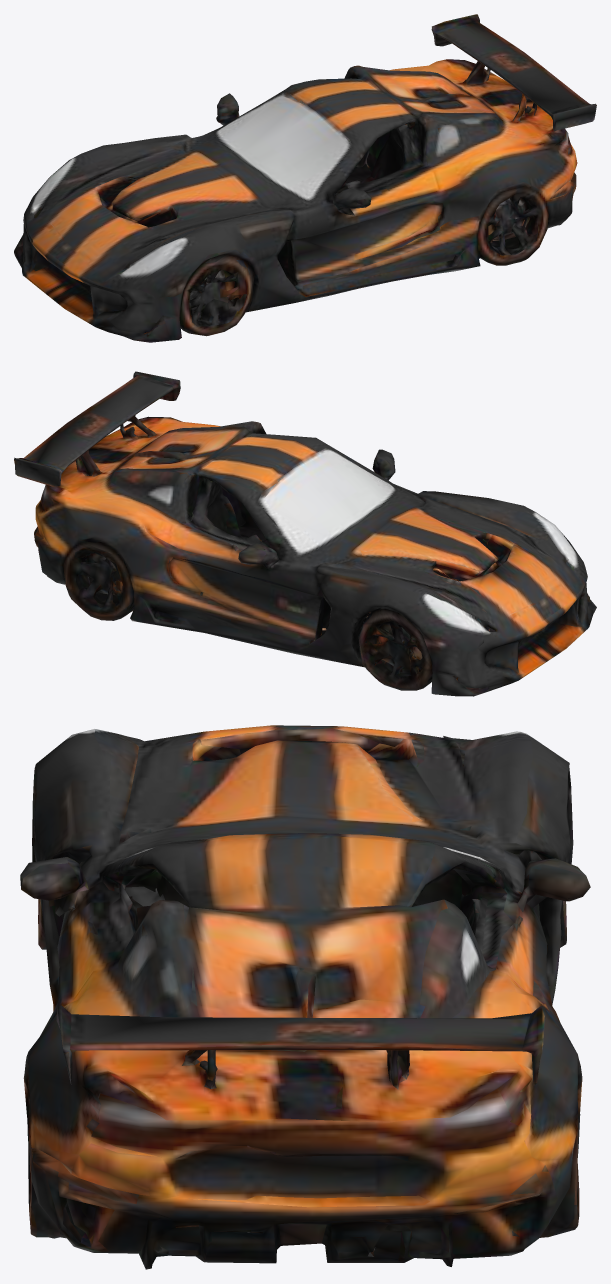
The model's file is dk-meshy-detail-sport-lite.glb.
3 renders of one model, top to bottom at view 1: azimuth 30°, elevation 25°; view 2: azimuth 150°, elevation 25°; view 3: azimuth 270°, elevation 25°, orthographic. The views are drawn at different scales.
Size of the model in its own units: 2 by 0.5583 by 1.02.
Materials: 1 (1 with a texture image).
